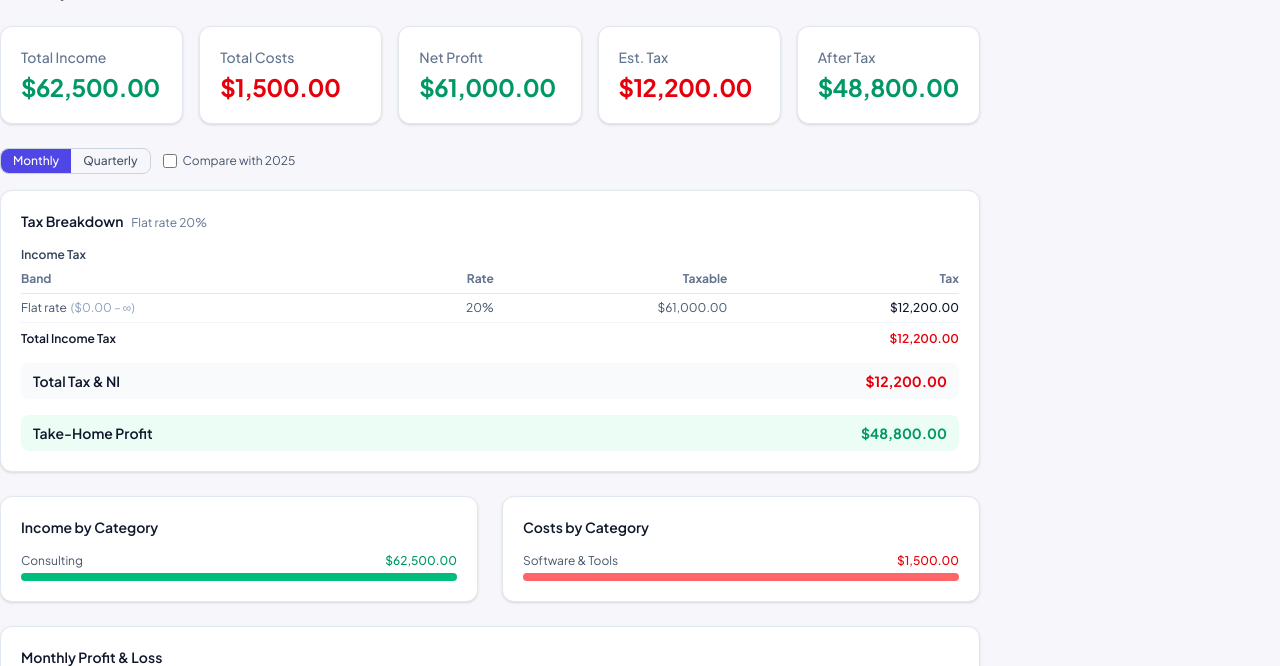
it: ReportsPage › quarterly view shows quarterly data rows
Click the button "quarterly": (110,161) [71,149,150,173]
(page scrolled)
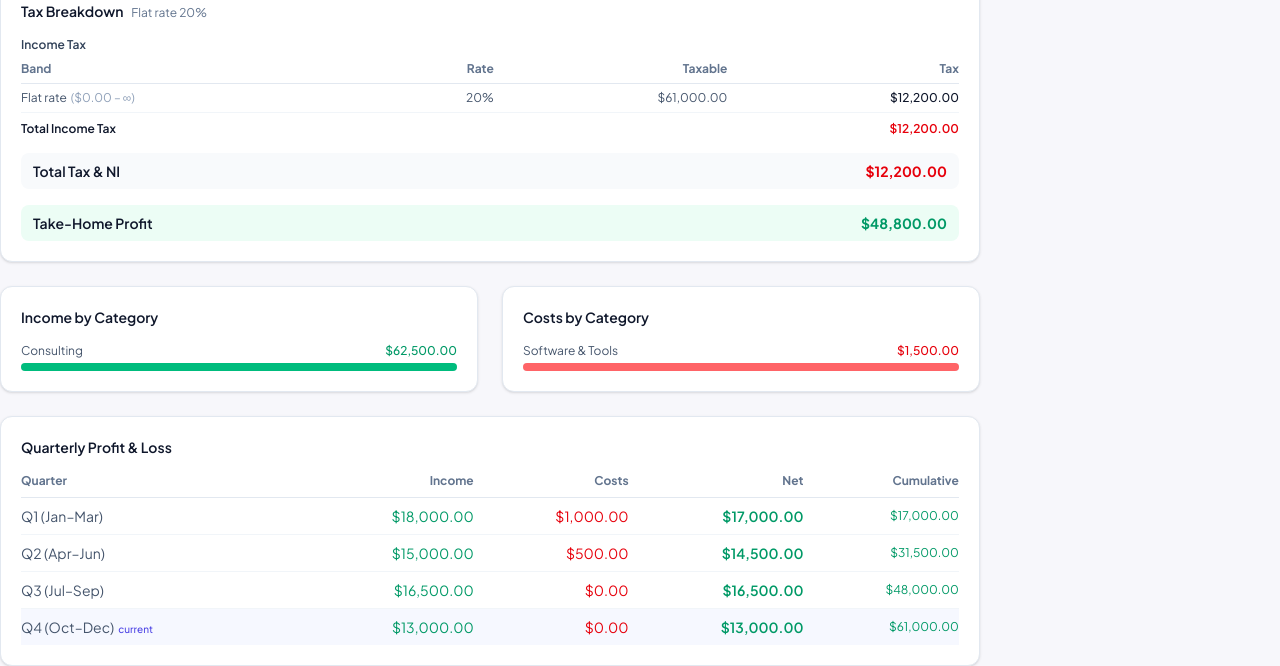
Expected: the text "Q1 (Jan–Mar)" is shown, [21,498,300,534]
